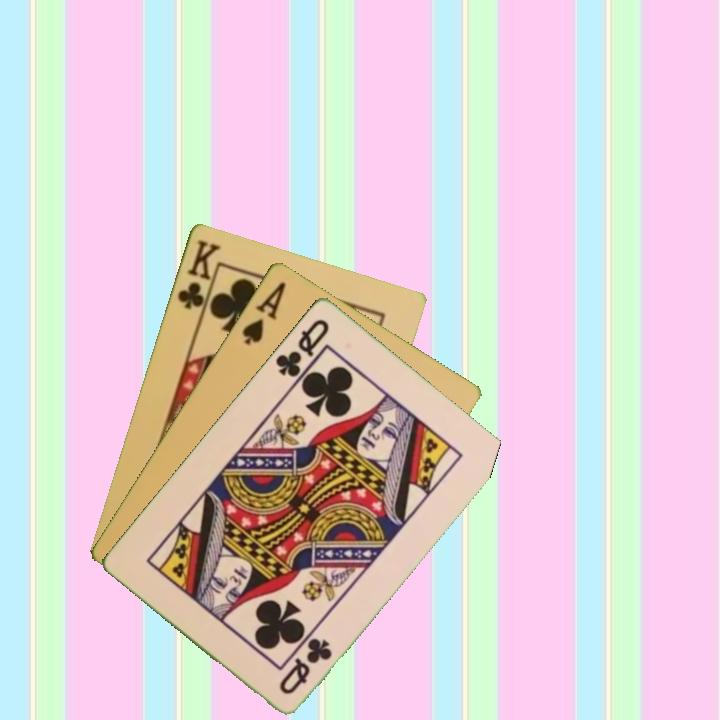As: (238, 277, 289, 348)
Kc: (173, 235, 223, 320)
Qc: (271, 315, 332, 388), (275, 633, 336, 697)
